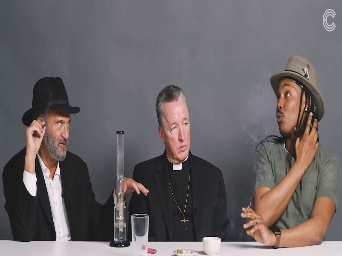smoke: (242, 203, 250, 218)
